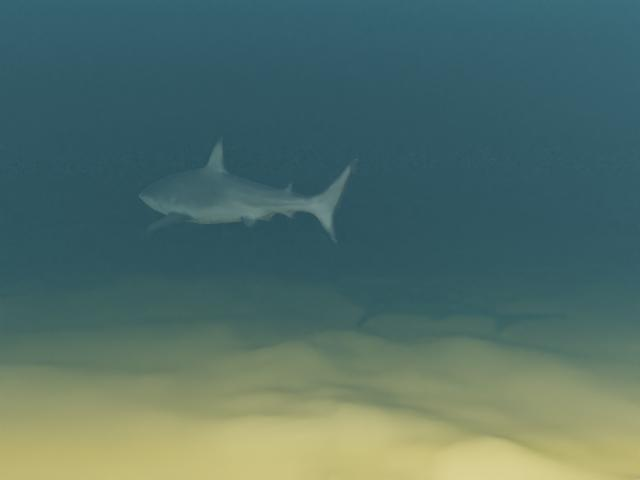Carribean Shark.001: (139, 136, 358, 242)
